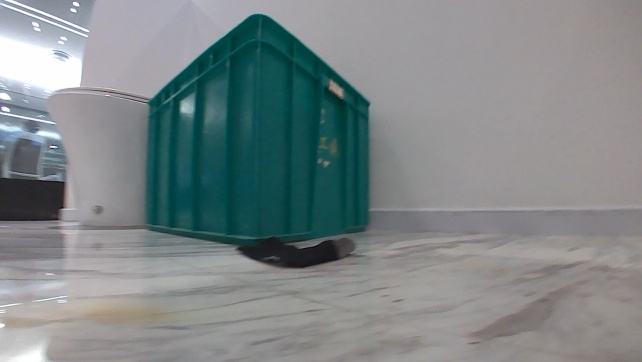socks: (230, 233, 359, 270)
toilet: (33, 85, 152, 231)
